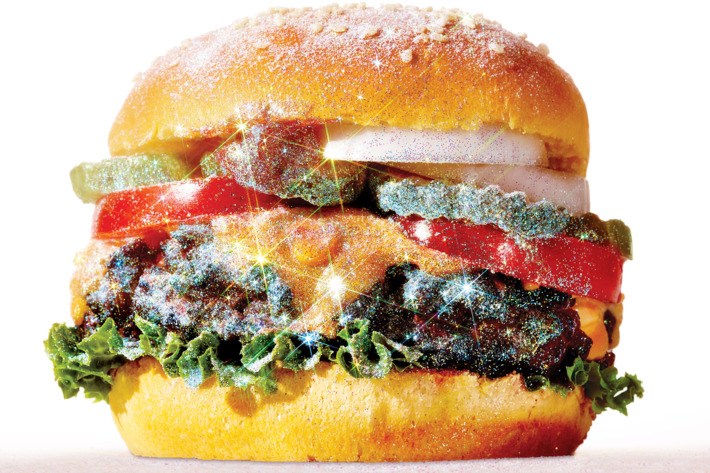hamburger: (76, 19, 589, 473)
